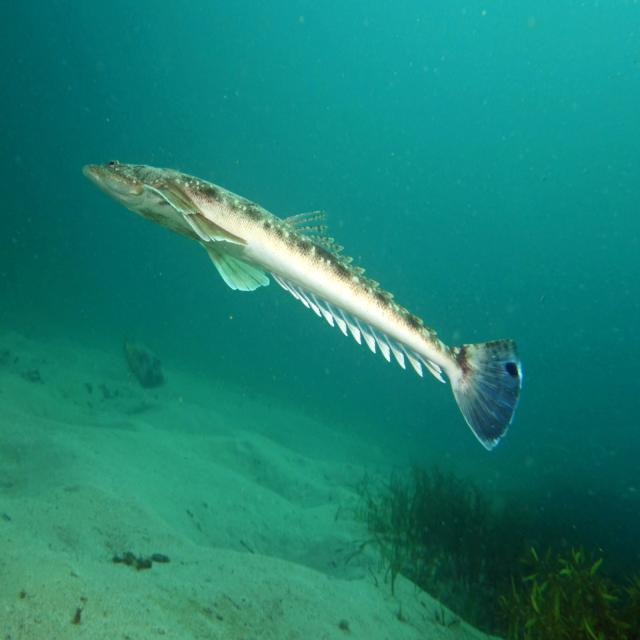Flathead: (71, 138, 533, 470)
